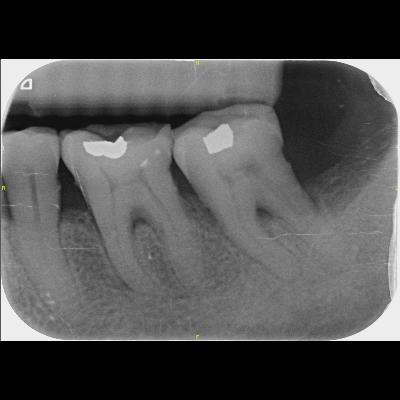tooth: (2, 126, 86, 328)
